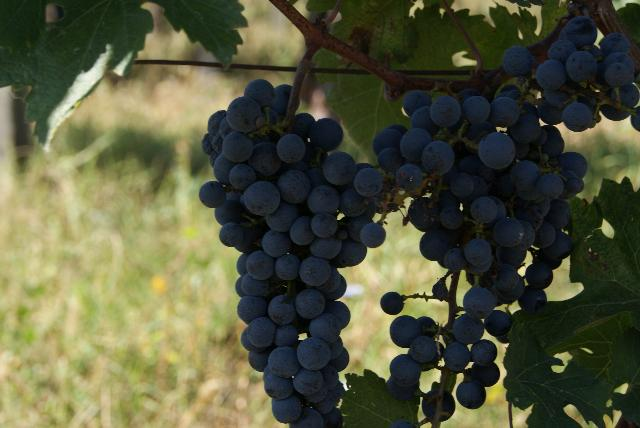grapes: (378, 48, 588, 409), (199, 79, 382, 428), (502, 16, 640, 154)
